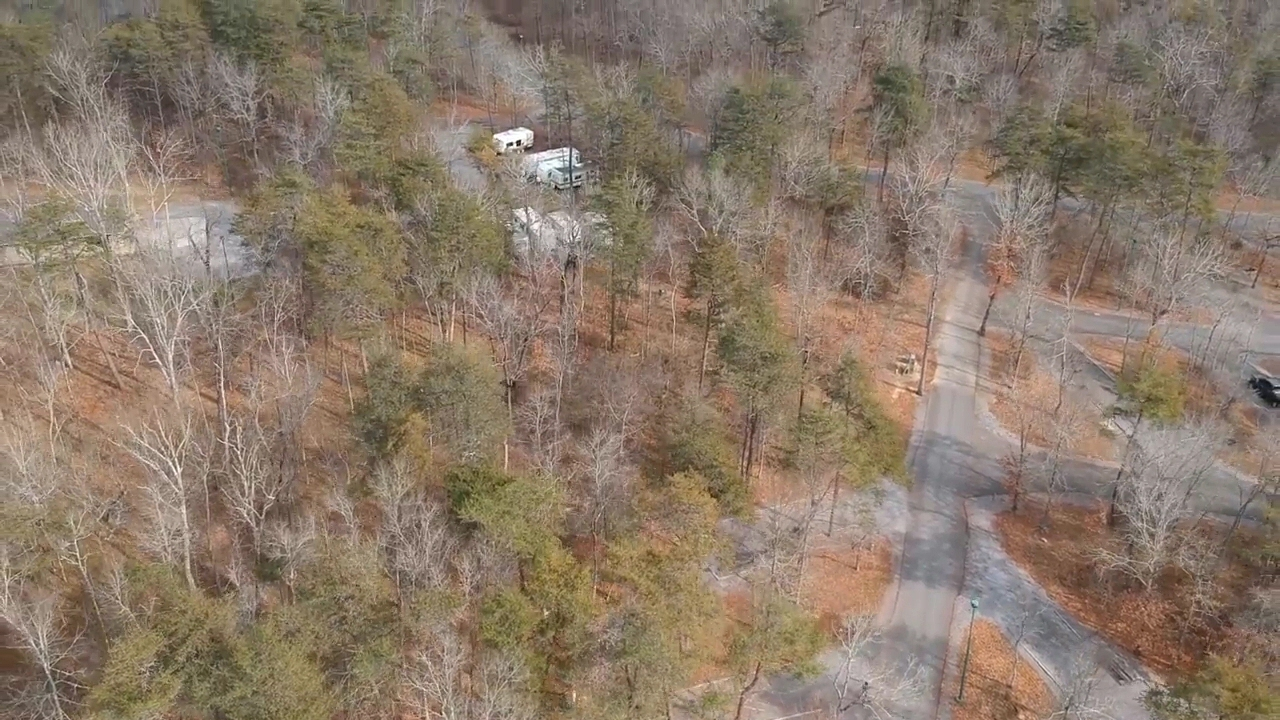araba: (1244, 370, 1280, 416)
